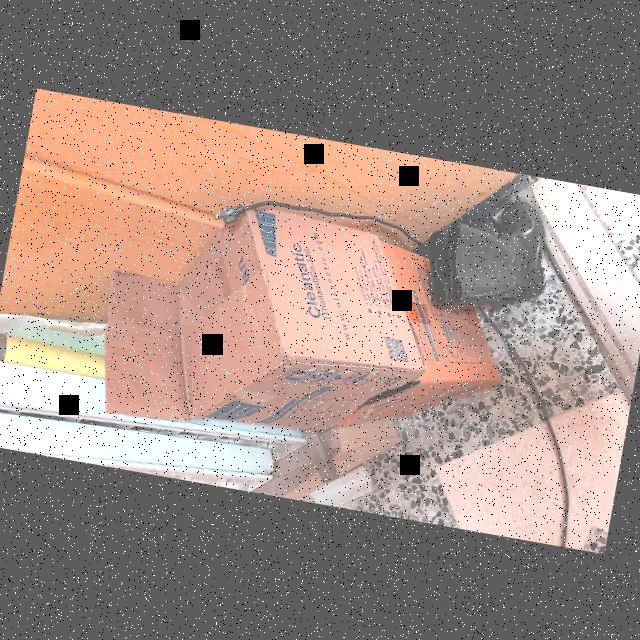cardboard_box: (76, 176, 446, 466), (327, 232, 523, 449)
